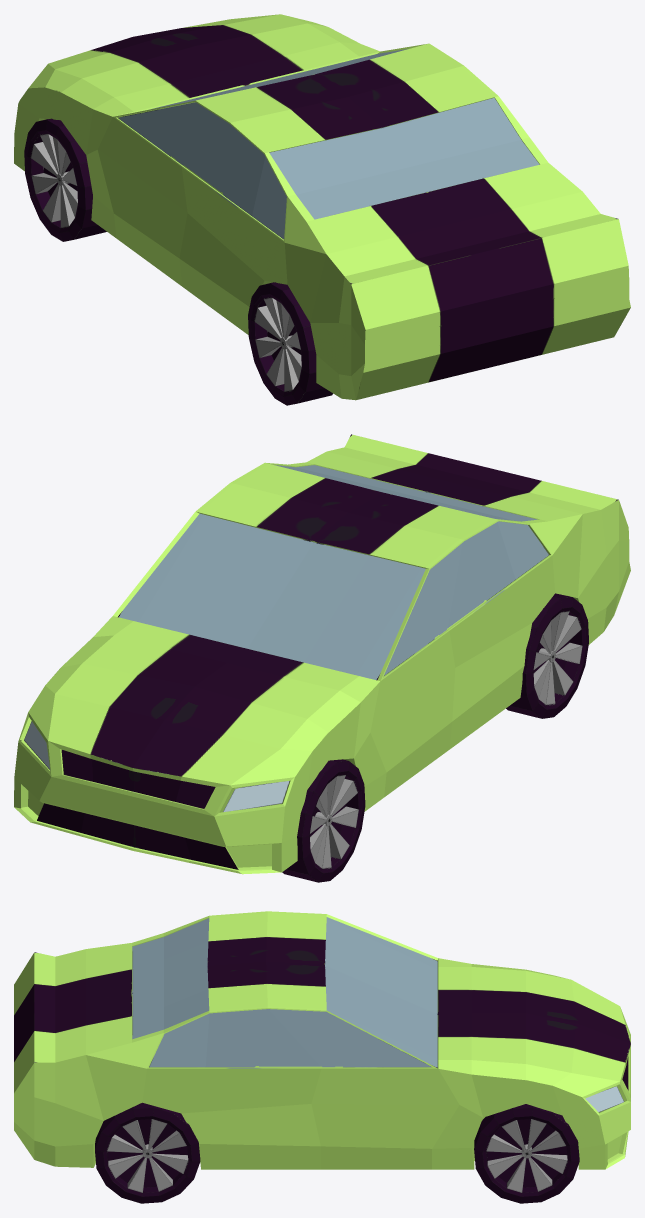
The model's file is CARUV312.fbx.
3 views of the same model, one above another, from view 1: azimuth 30°, elevation 25°; view 2: azimuth 150°, elevation 25°; view 3: azimuth 270°, elevation 25° (orthographic). The views are drawn at different scales.
Parts seen in each view (by area): view 1: Auto_LOD0, Rueda3_LOD0, Rueda4_LOD0; view 2: Auto_LOD0, Rueda4_LOD0, Rueda3_LOD0; view 3: Auto_LOD0, Rueda1_LOD0, Rueda2_LOD0.
Boxes of the visible parts, x1,y1,x2,y2 form: Auto_LOD0: (14, 14, 630, 400); Rueda3_LOD0: (248, 282, 332, 405); Rueda4_LOD0: (24, 118, 106, 241); Auto_LOD0: (14, 434, 630, 874); Rueda4_LOD0: (282, 759, 365, 882); Rueda3_LOD0: (506, 593, 588, 718); Auto_LOD0: (14, 911, 630, 1169); Rueda1_LOD0: (474, 1104, 579, 1203); Rueda2_LOD0: (95, 1102, 200, 1203).
Size of what is drawn, in the model's own units: 194 by 145 by 435.
